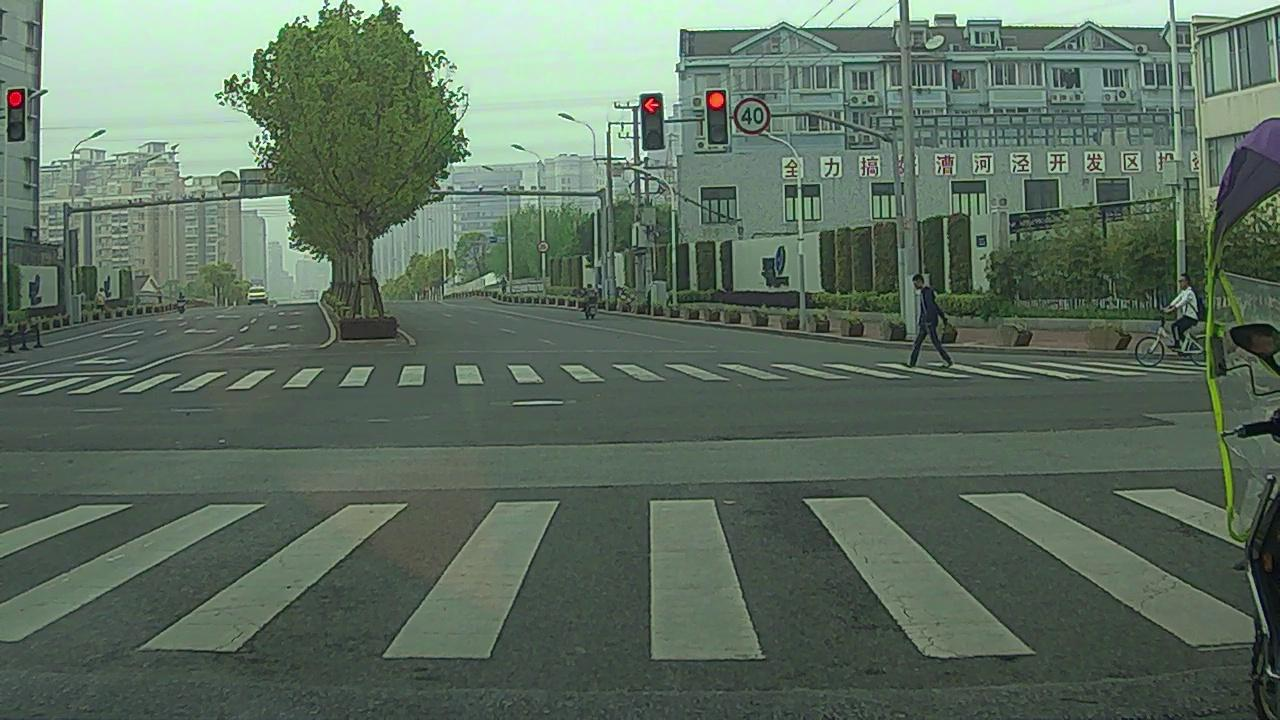traffic_light: (641, 93, 664, 151), (706, 90, 728, 144), (5, 87, 25, 144)
